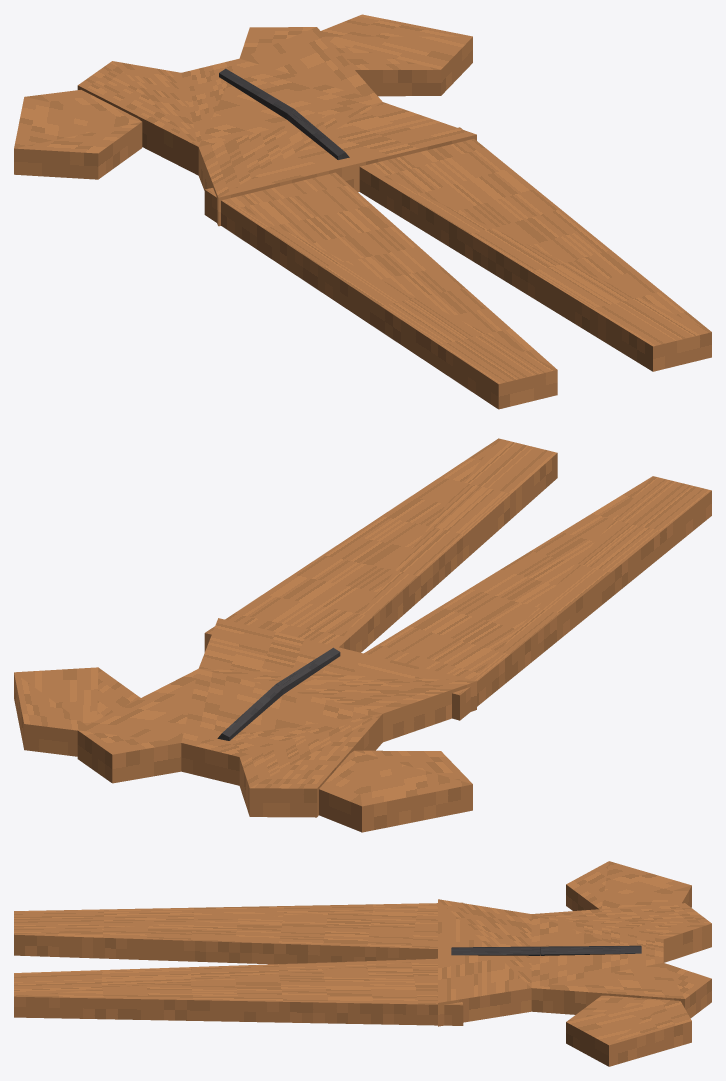
The model's file is jumpsuit.glb.
3 views of the same model, one above another, from view 1: azimuth 30°, elevation 25°; view 2: azimuth 150°, elevation 25°; view 3: azimuth 270°, elevation 25° (orthographic). The views are drawn at different scales.
Parts seen in each view (by area): view 1: block_integral trouser leg (×2), block_suit torso, block_sleeve (×2), block_sealed front zipper 0, block_sealed front zipper 1; view 2: block_integral trouser leg (×2), block_suit torso, block_sleeve (×2), block_sealed front zipper 0, block_sealed front zipper 1; view 3: block_integral trouser leg (×2), block_suit torso, block_sleeve (×2), block_sealed front zipper 0, block_sealed front zipper 1.
Part boxes in pixels (x1,y1,x2,y2): block_integral trouser leg (×2): [204, 127, 711, 409]; block_suit torso: [77, 27, 476, 226]; block_sleeve (×2): [14, 14, 472, 179]; block_sealed front zipper 0: [219, 68, 293, 119]; block_sealed front zipper 1: [287, 109, 349, 159]; block_integral trouser leg (×2): [204, 438, 711, 720]; block_suit torso: [77, 618, 476, 817]; block_sleeve (×2): [14, 667, 472, 832]; block_sealed front zipper 0: [217, 684, 282, 740]; block_sealed front zipper 1: [276, 647, 340, 694]; block_integral trouser leg (×2): [14, 902, 463, 1025]; block_suit torso: [438, 899, 711, 1026]; block_sleeve (×2): [566, 861, 691, 1066]; block_sealed front zipper 0: [540, 945, 641, 955]; block_sealed front zipper 1: [451, 946, 540, 955].
Size of the model in its own units: 0.5142 by 0.0404 by 0.8229.
Materials: 1 (1 with a texture image).
